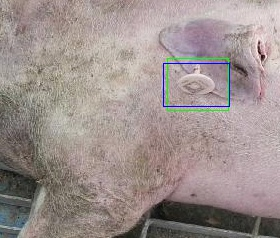text: (167, 58, 228, 110)
